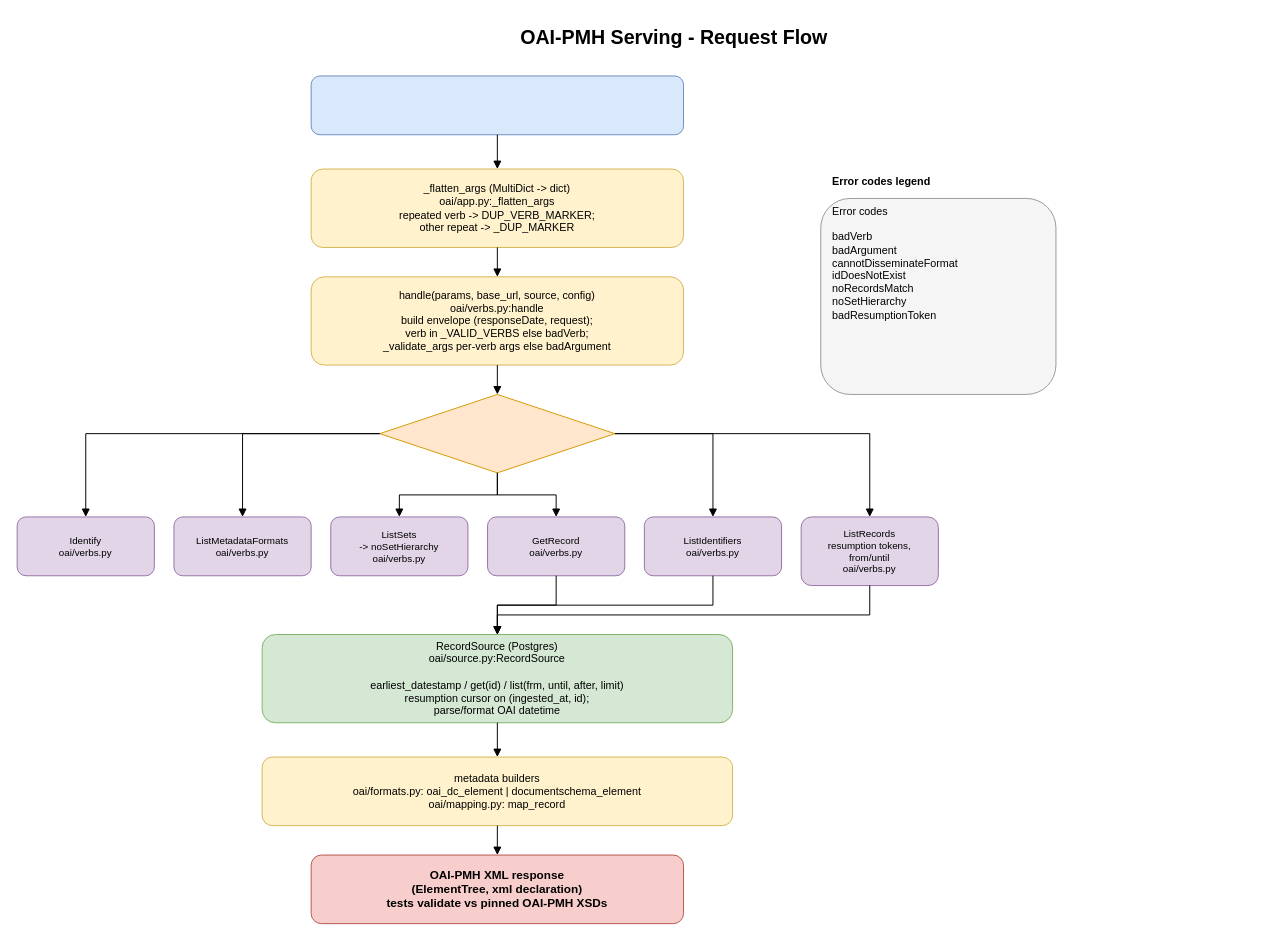
This 1279x941 diagram has some shape labels left out. Here are the shapes that lost their labels. From the top down, the centre of each, then its label:
At point 497,105: "HTTP GET/POST /oai?verb=... oai/app.py:create_app (/oai route)".
At point 497,433: "Dispatch to verb handler (oai/verbs.py)".
